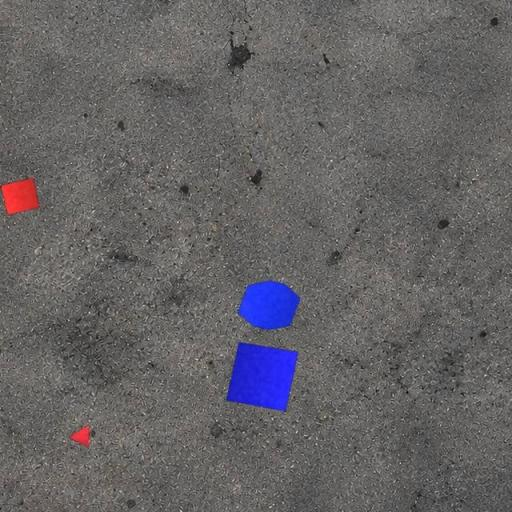BLUE_SQUARE: (226, 342, 299, 412)
RED_SQUARE: (0, 178, 41, 215)
